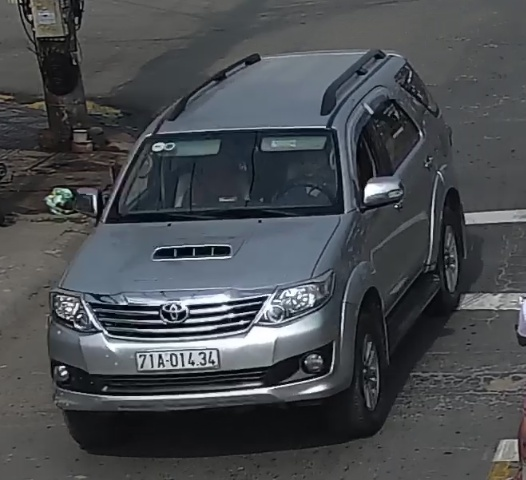vehicle plate: (129, 350, 227, 374)
